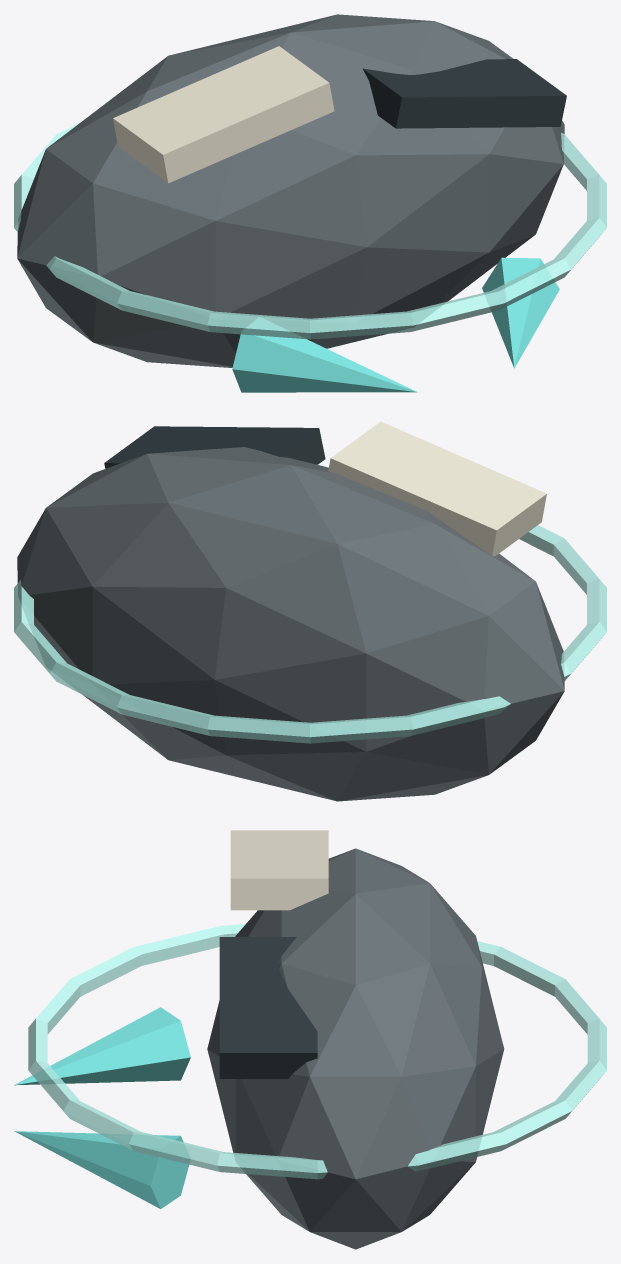
The model's file is 02_monster_skin_attachment.glb.
3 renders of one model, top to bottom at view 1: azimuth 30°, elevation 25°; view 2: azimuth 150°, elevation 25°; view 3: azimuth 270°, elevation 25°, orthographic. The views are drawn at different scales.
Parts seen in each view (by area): view 1: skin_variant_body_proxy, armor_or_hide_patch_a, spawn_uniqueness_ring, armor_or_hide_patch_b, variant_horn_l, variant_horn_r; view 2: skin_variant_body_proxy, spawn_uniqueness_ring, armor_or_hide_patch_a, armor_or_hide_patch_b; view 3: skin_variant_body_proxy, spawn_uniqueness_ring, armor_or_hide_patch_b, armor_or_hide_patch_a, variant_horn_l, variant_horn_r.
Part boxes in pixels (bbox=[...]): skin_variant_body_proxy: bbox=[17, 14, 564, 367]; armor_or_hide_patch_a: bbox=[113, 46, 334, 183]; spawn_uniqueness_ring: bbox=[14, 122, 606, 339]; armor_or_hide_patch_b: bbox=[362, 59, 566, 128]; variant_horn_l: bbox=[232, 318, 417, 392]; variant_horn_r: bbox=[482, 257, 559, 368]; skin_variant_body_proxy: bbox=[17, 447, 564, 801]; spawn_uniqueness_ring: bbox=[14, 525, 606, 743]; armor_or_hide_patch_a: bbox=[328, 421, 546, 556]; armor_or_hide_patch_b: bbox=[104, 426, 325, 468]; skin_variant_body_proxy: bbox=[207, 848, 504, 1249]; spawn_uniqueness_ring: bbox=[28, 924, 606, 1179]; armor_or_hide_patch_b: bbox=[219, 937, 317, 1078]; armor_or_hide_patch_a: bbox=[230, 830, 328, 910]; variant_horn_l: bbox=[14, 1007, 190, 1085]; variant_horn_r: bbox=[14, 1131, 189, 1208].
Size of the model in its own units: 1.13 by 0.6358 by 1.09.
